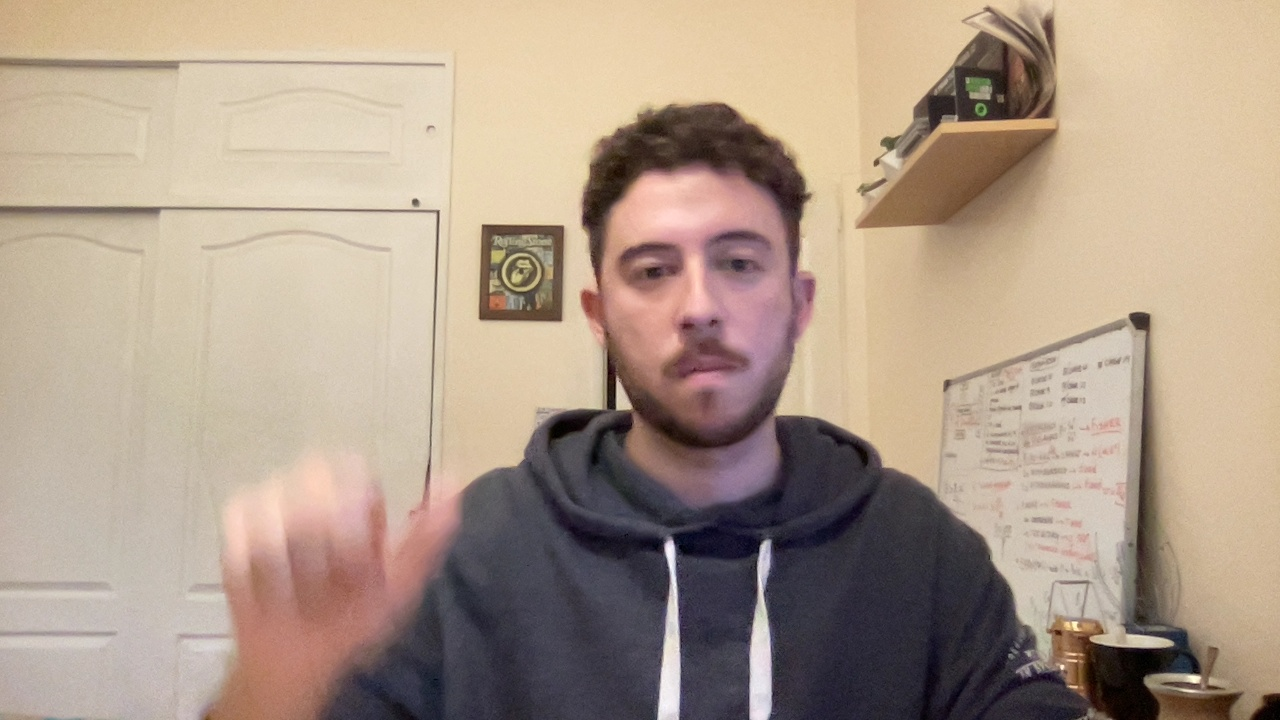pulgar: (166, 447, 507, 670)
